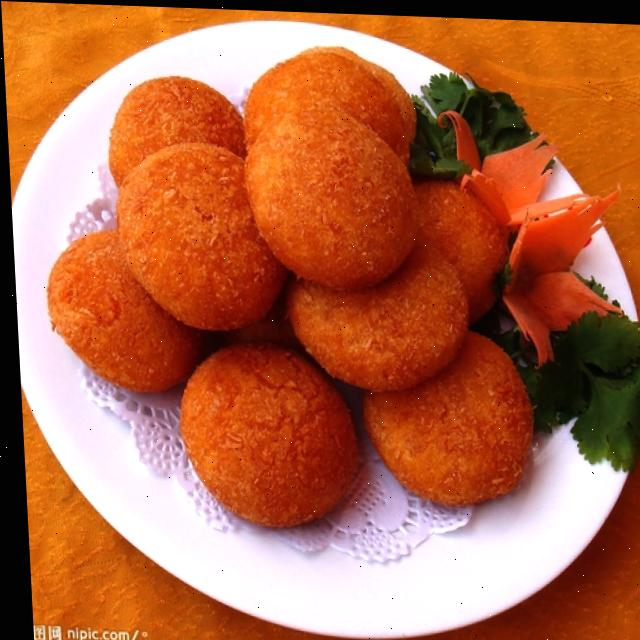炸货点心: (22, 4, 636, 602)
蛋糕甜品: (22, 4, 636, 602)
